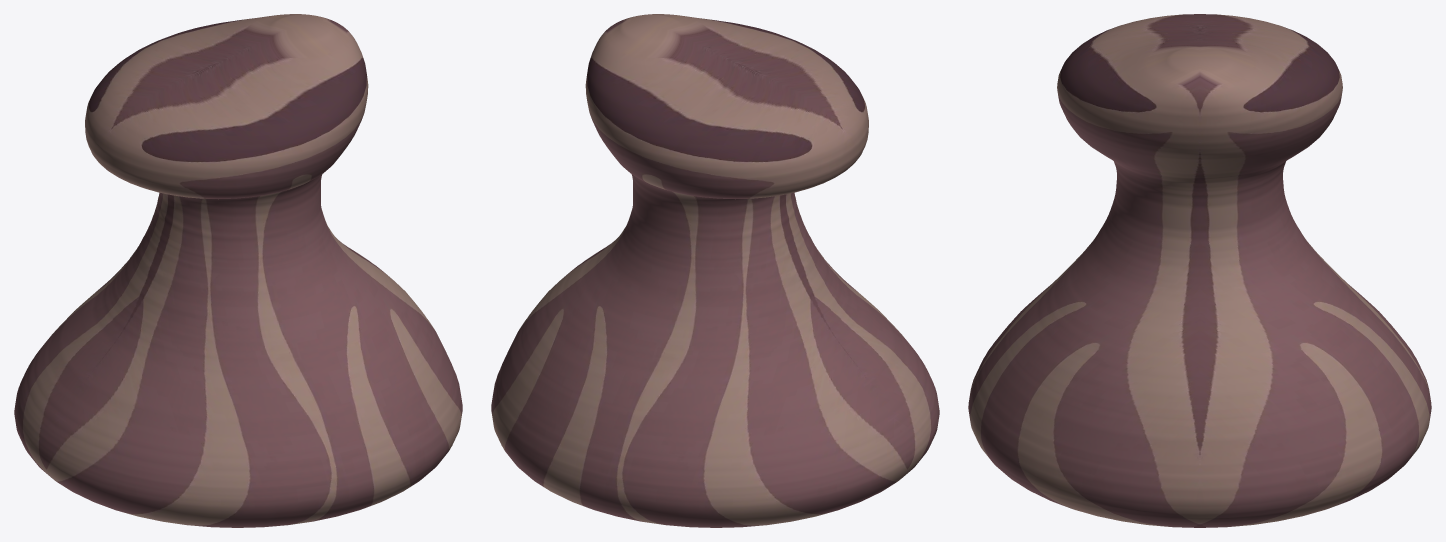
File: rose_vent.glb
The picture shows the model from 3 angles, left to right: view 1: azimuth 30°, elevation 25°; view 2: azimuth 150°, elevation 25°; view 3: azimuth 270°, elevation 25°; orthographic projection. The views are drawn at different scales.
Visible parts, largest first — view 1: rose_vent; view 2: rose_vent; view 3: rose_vent.
Boxes of the visible parts, x1,y1,x2,y2 form: rose_vent: (14,14,462,527); rose_vent: (491,14,939,527); rose_vent: (968,14,1431,527).
Size of the model in its own units: 1 by 1.05 by 0.9993.
Materials: 1 (1 with a texture image).
